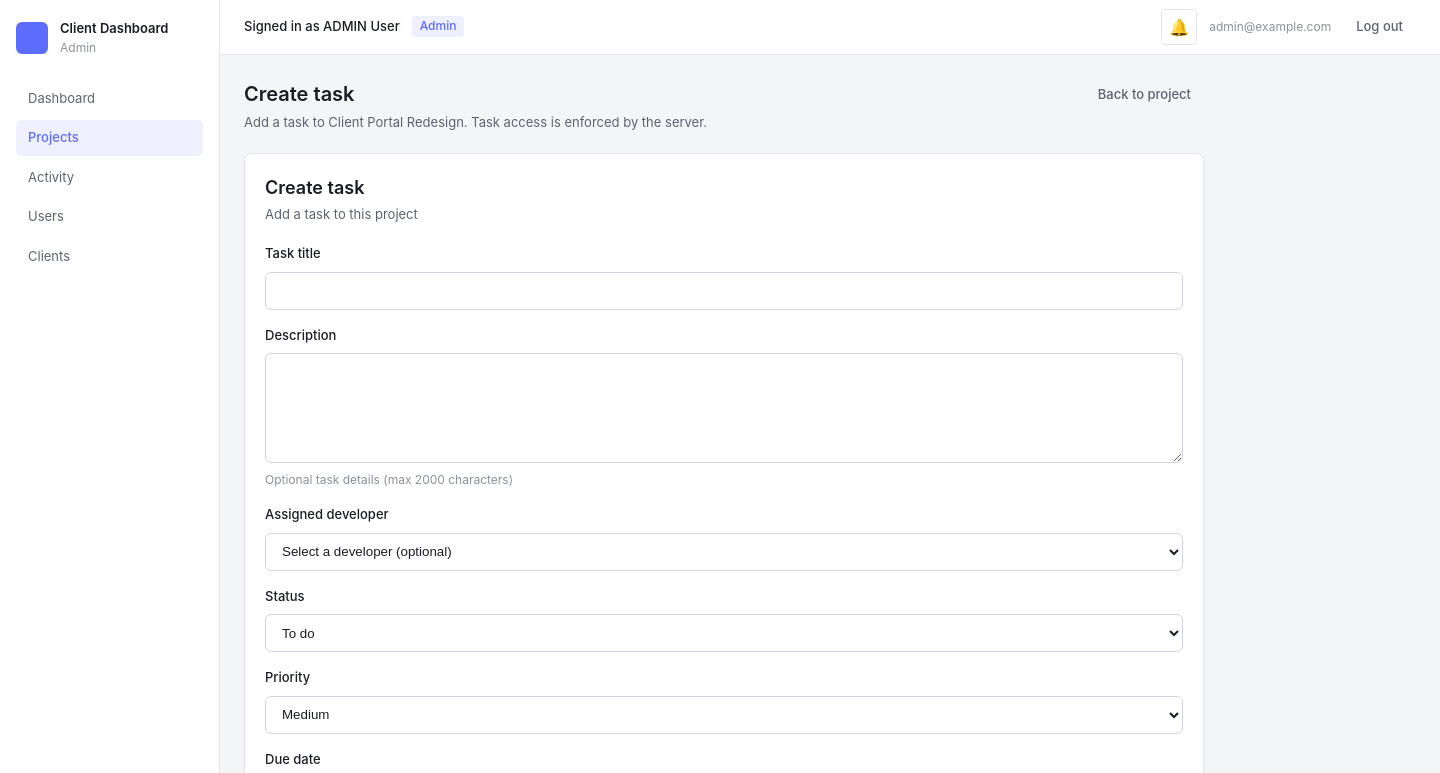
Test case: Task management UI › surfaces API errors from task creation
Type "Broken Task" into the field labelled "Task title" at (724, 290), box [265,272,1183,310]
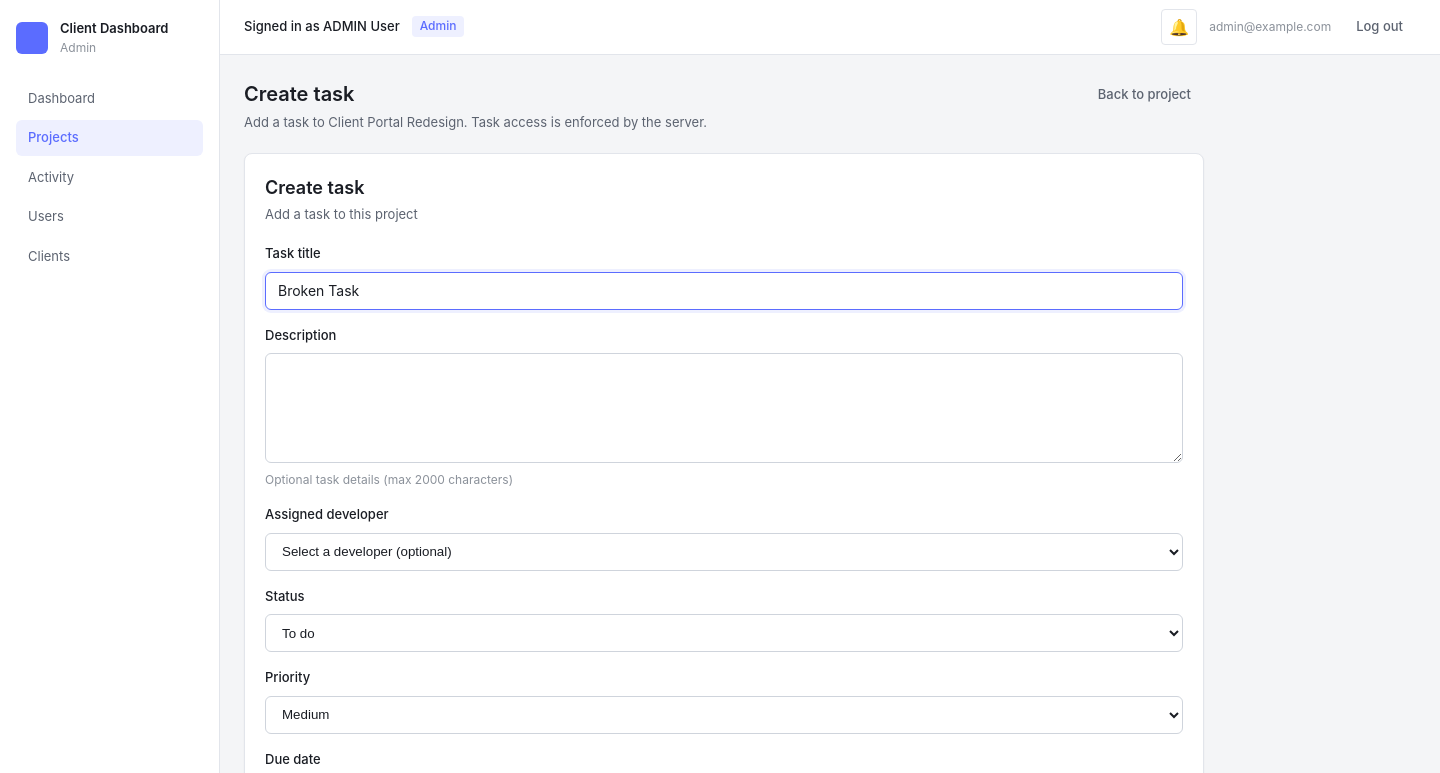
Select "Dev One (dev1@example.com)" in the dropdown labelled "Assigned developer" at (724, 552), box [265,532,1183,570]
(page scrolled)
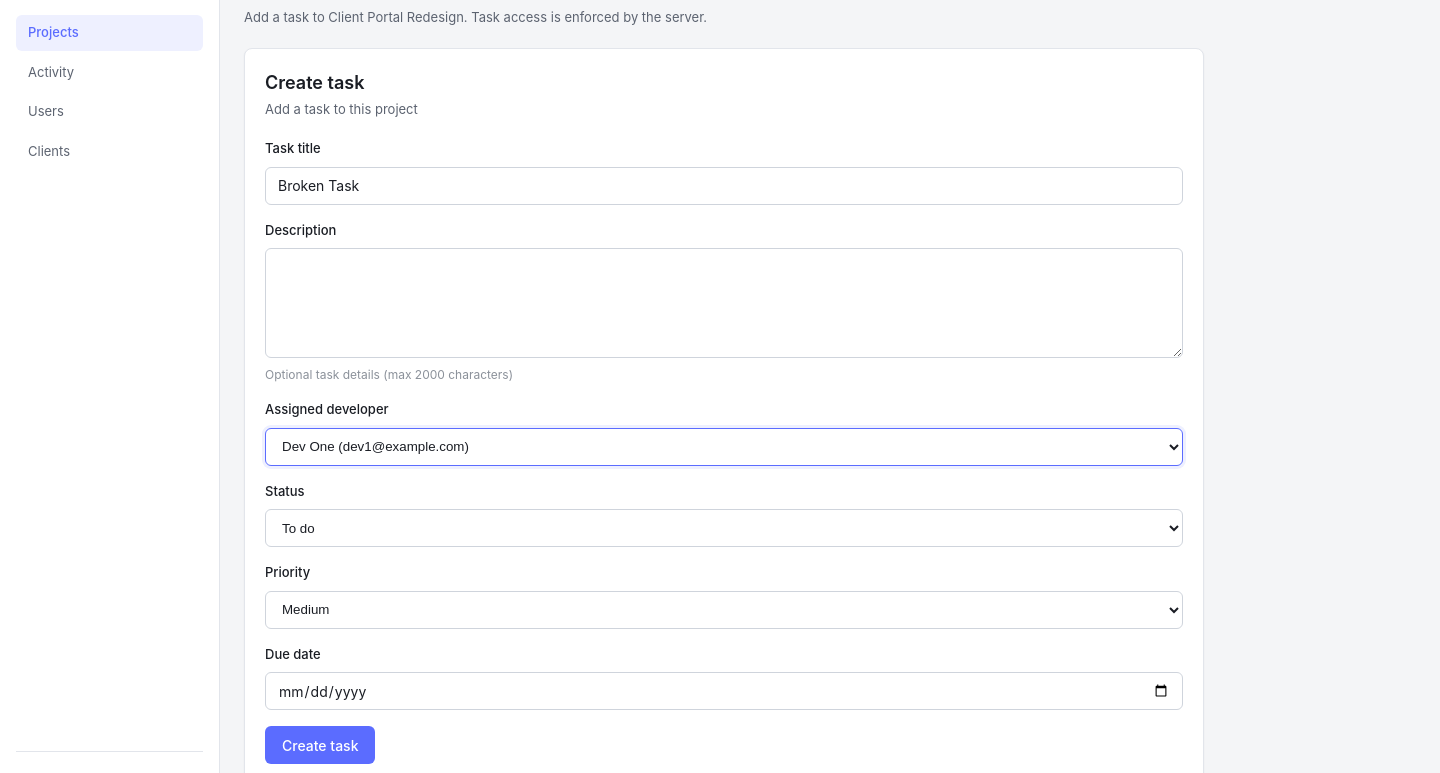
Click the button "Create task" at (320, 745), box [265,726,376,764]
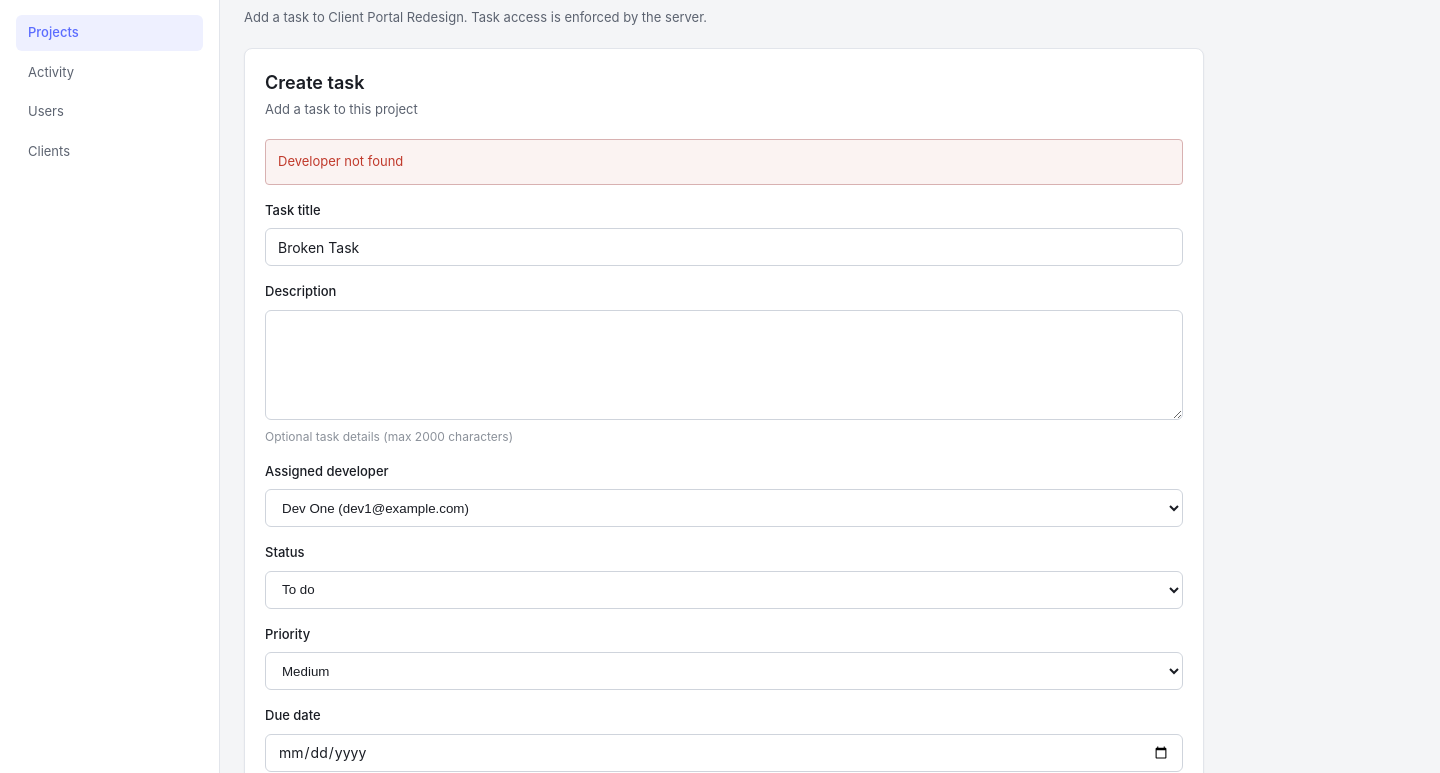
Now the text "Developer not found" is shown, box [265,139,1183,184]
